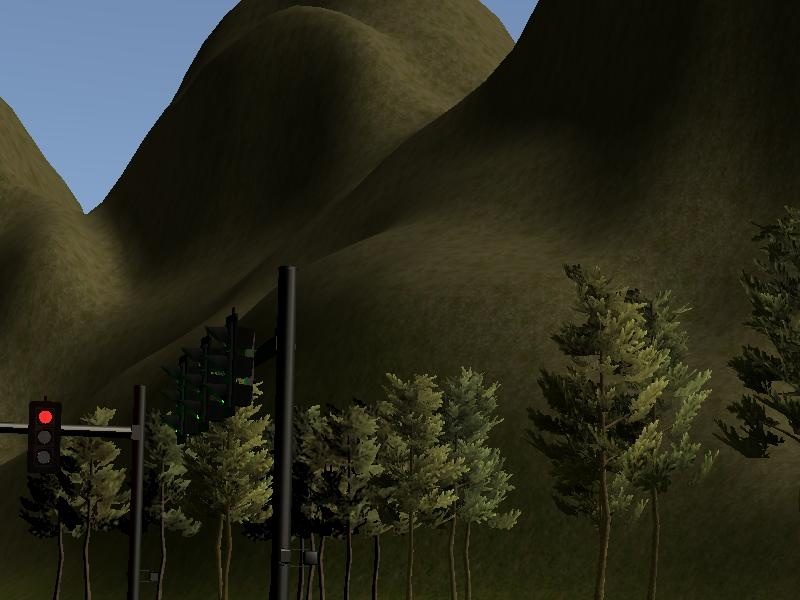RED: (26, 403, 60, 473)
